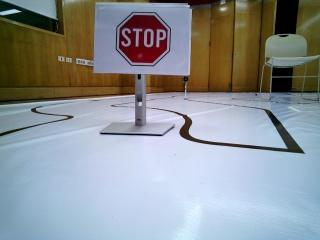stop: (99, 6, 187, 76)
